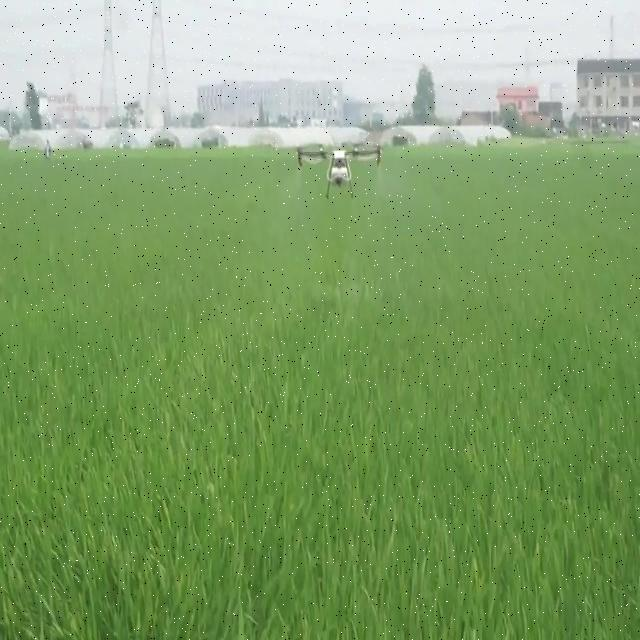UAV: (296, 143, 384, 200)
